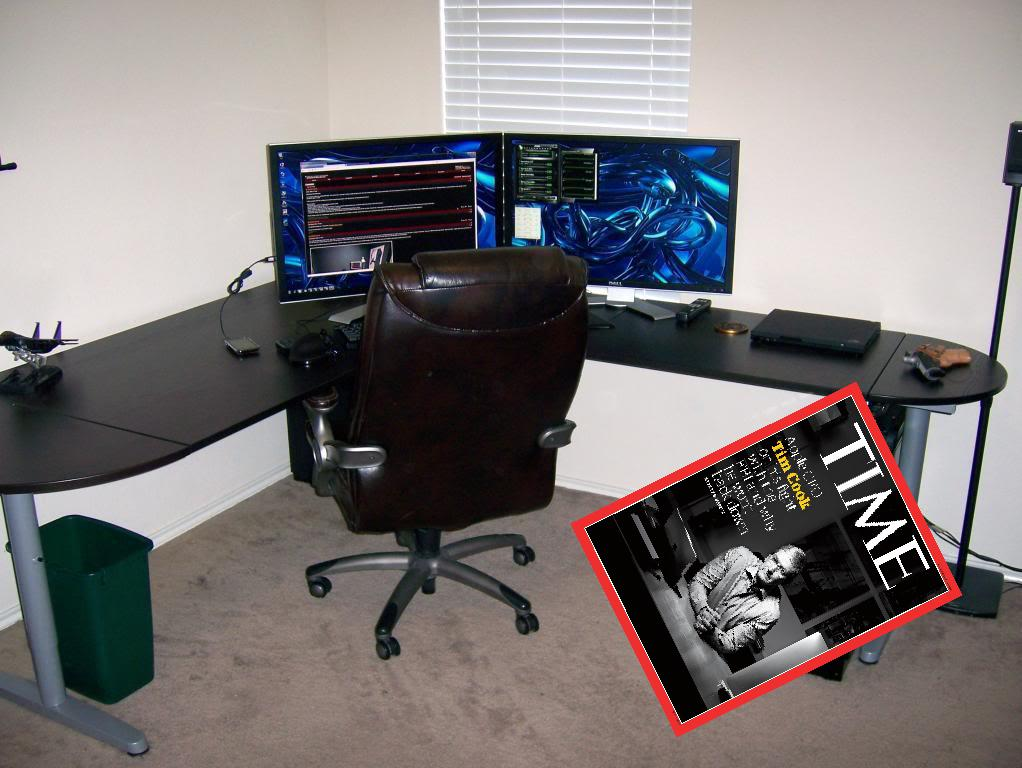times: (567, 379, 970, 734)
